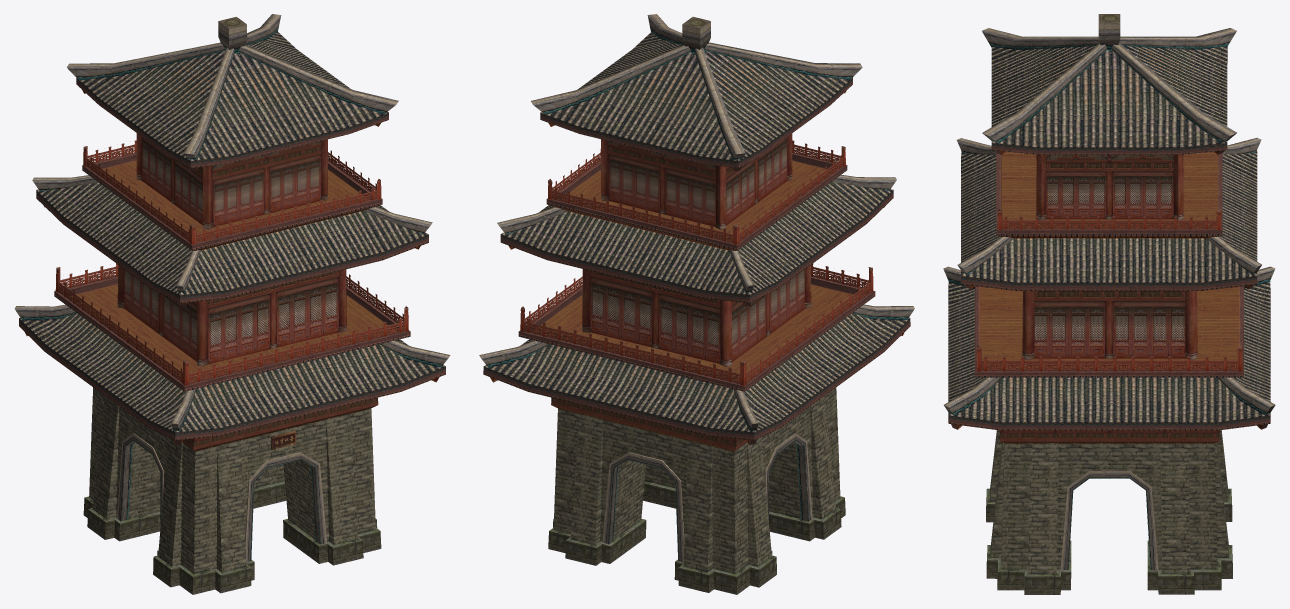
Rendered from jianzhu01.FBX.
3 renders of one model, left to right at view 1: azimuth 30°, elevation 25°; view 2: azimuth 150°, elevation 25°; view 3: azimuth 270°, elevation 25°, orthographic. The views are drawn at different scales.
Visible parts, largest first — view 1: jianzhu01, jianzhu13, jianzhu09, jianzhu11, jianzhu12, jianzhu10; view 2: jianzhu01, jianzhu13, jianzhu09, jianzhu11, jianzhu12, jianzhu10; view 3: jianzhu01, jianzhu09, jianzhu13, jianzhu12, jianzhu11, jianzhu10.
Boxes of the visible parts, x1=… form: jianzhu01: x1=14, y1=14, x2=450, y2=562; jianzhu13: x1=89, y1=387, x2=375, y2=573; jianzhu09: x1=117, y1=133, x2=378, y2=449; jianzhu11: x1=55, y1=140, x2=408, y2=385; jianzhu12: x1=69, y1=161, x2=394, y2=380; jianzhu10: x1=83, y1=17, x2=381, y2=594; jianzhu01: x1=479, y1=14, x2=914, y2=562; jianzhu13: x1=553, y1=387, x2=840, y2=573; jianzhu09: x1=551, y1=133, x2=811, y2=449; jianzhu11: x1=520, y1=140, x2=873, y2=385; jianzhu12: x1=533, y1=161, x2=860, y2=380; jianzhu10: x1=548, y1=16, x2=845, y2=594; jianzhu01: x1=943, y1=23, x2=1275, y2=569; jianzhu09: x1=999, y1=154, x2=1219, y2=441; jianzhu13: x1=990, y1=430, x2=1228, y2=574; jianzhu12: x1=979, y1=151, x2=1239, y2=368; jianzhu11: x1=976, y1=209, x2=1242, y2=371; jianzhu10: x1=986, y1=14, x2=1232, y2=594.
Size of the model in its own units: 1028 by 1789 by 1028.
